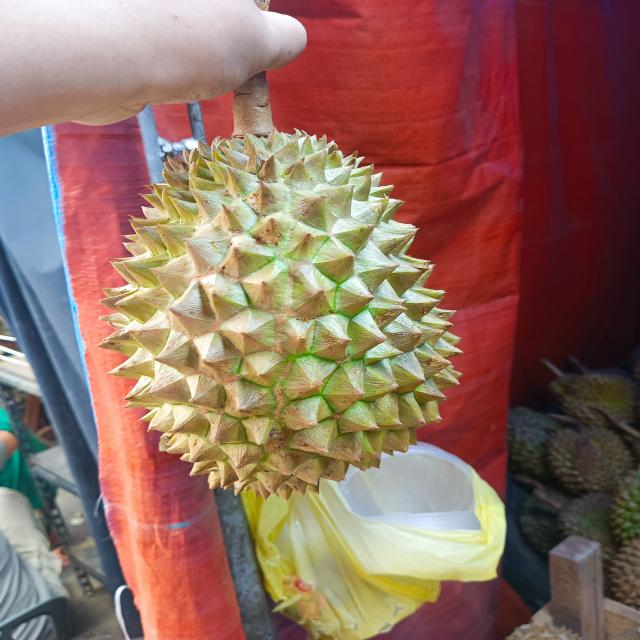mature: (100, 72, 462, 499)
